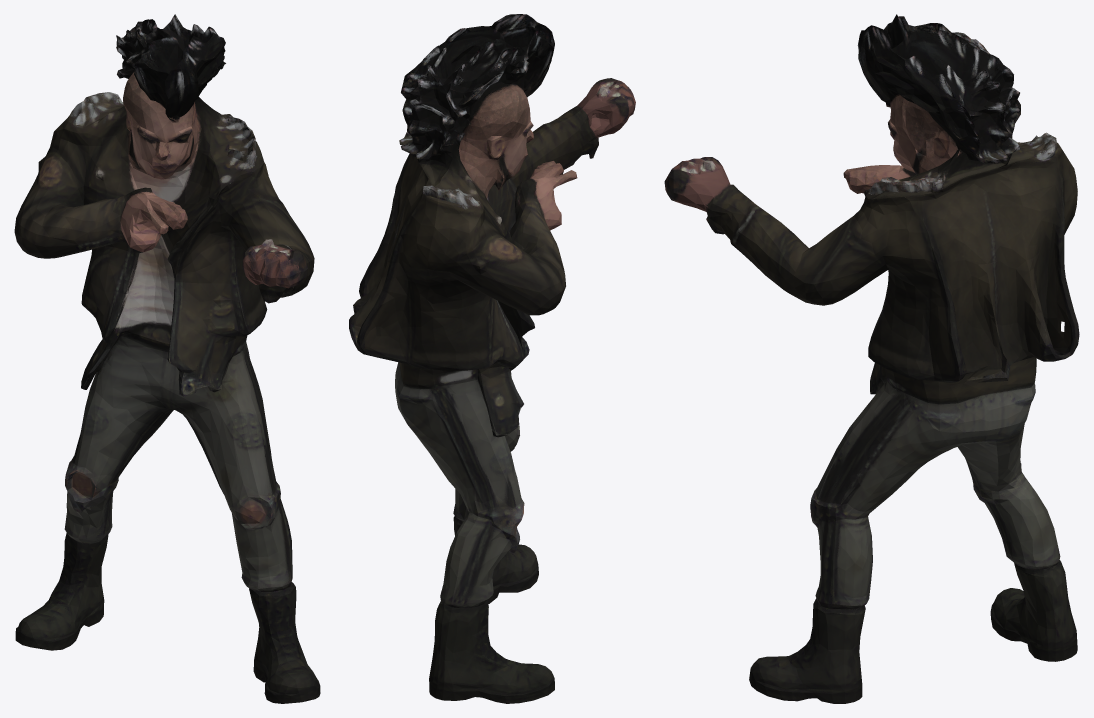
File: punk_hold2h.glb
3 views of the same model, side by side, from view 1: azimuth 30°, elevation 25°; view 2: azimuth 150°, elevation 25°; view 3: azimuth 270°, elevation 25° (orthographic). The views are drawn at different scales.
Parts seen in each view (by area): view 1: world; view 2: world; view 3: world.
Part boxes in pixels (x1,y1,x2,y2): world: [14, 14, 320, 703]; world: [349, 14, 635, 703]; world: [664, 14, 1079, 703].
Bounding box in the file's own units: 0.3794 × 0.9983 × 0.5892.
Materials: 1 (1 with a texture image).
